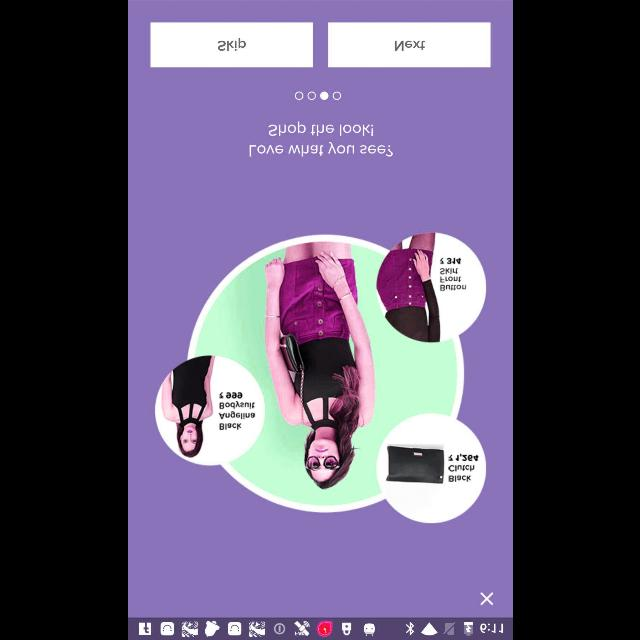icon: (479, 591, 493, 605)
image: (152, 232, 486, 524)
pageindicator: (294, 92, 340, 100)
text: (248, 122, 394, 156)
textbutton: (150, 22, 312, 68), (328, 22, 490, 68)
uppertaskbar: (128, 617, 512, 639)
